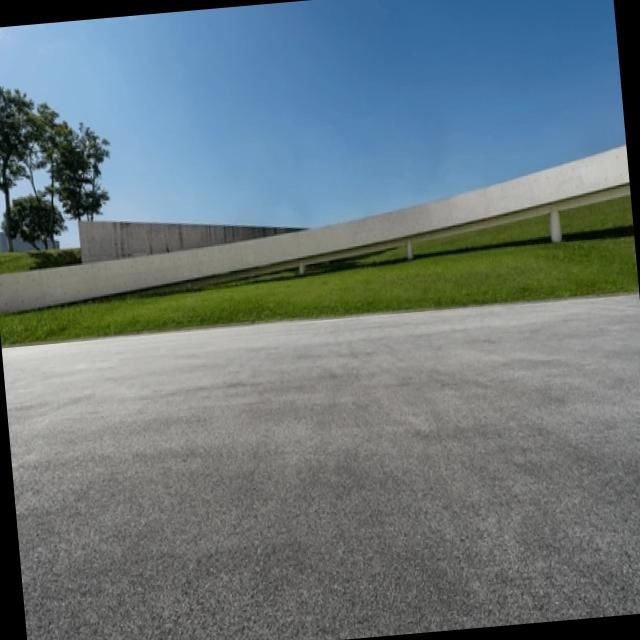asphalt: (1, 295, 640, 640)
cement: (0, 144, 629, 310), (81, 221, 299, 259)
